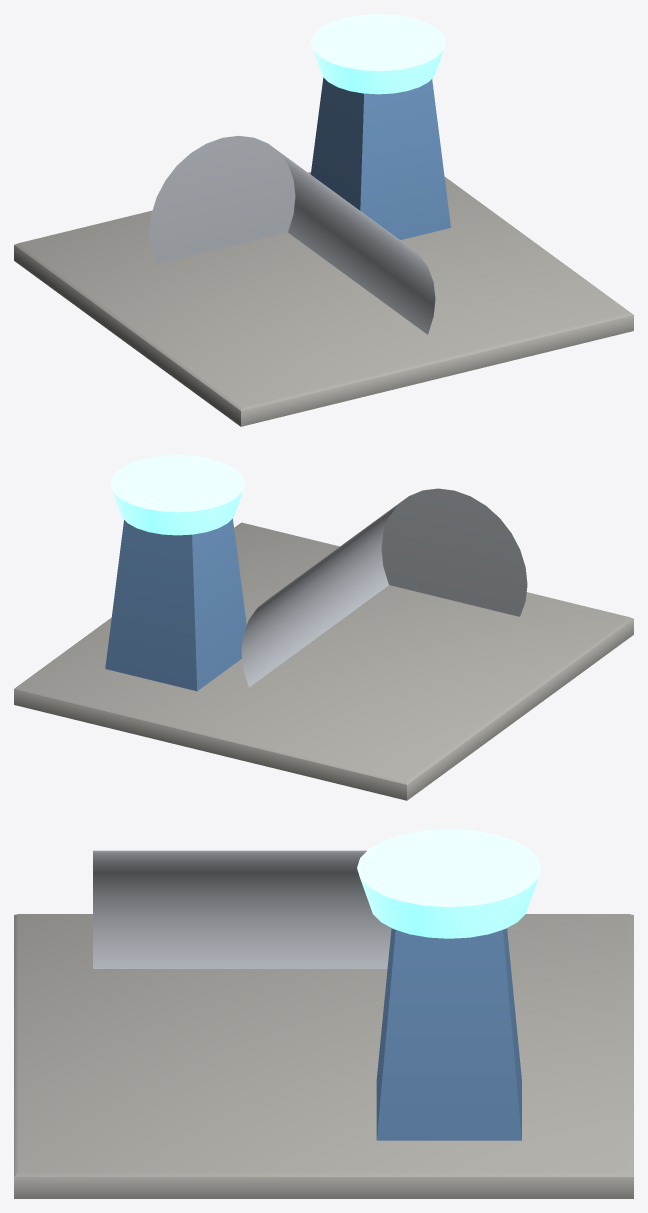
Rendered from caairp.glb.
The picture shows the model from 3 angles, top to bottom: view 1: azimuth 30°, elevation 25°; view 2: azimuth 150°, elevation 25°; view 3: azimuth 270°, elevation 25°; orthographic projection. The views are drawn at different scales.
Visible parts, largest first — view 1: Hull; view 2: Hull; view 3: Hull.
Boxes of the visible parts, x1,y1,x2,y2 form: Hull: (14,14,633,426); Hull: (14,455,633,800); Hull: (14,829,633,1198).
Bounding box in the file's own units: 5.08 × 2.71 × 5.08.
